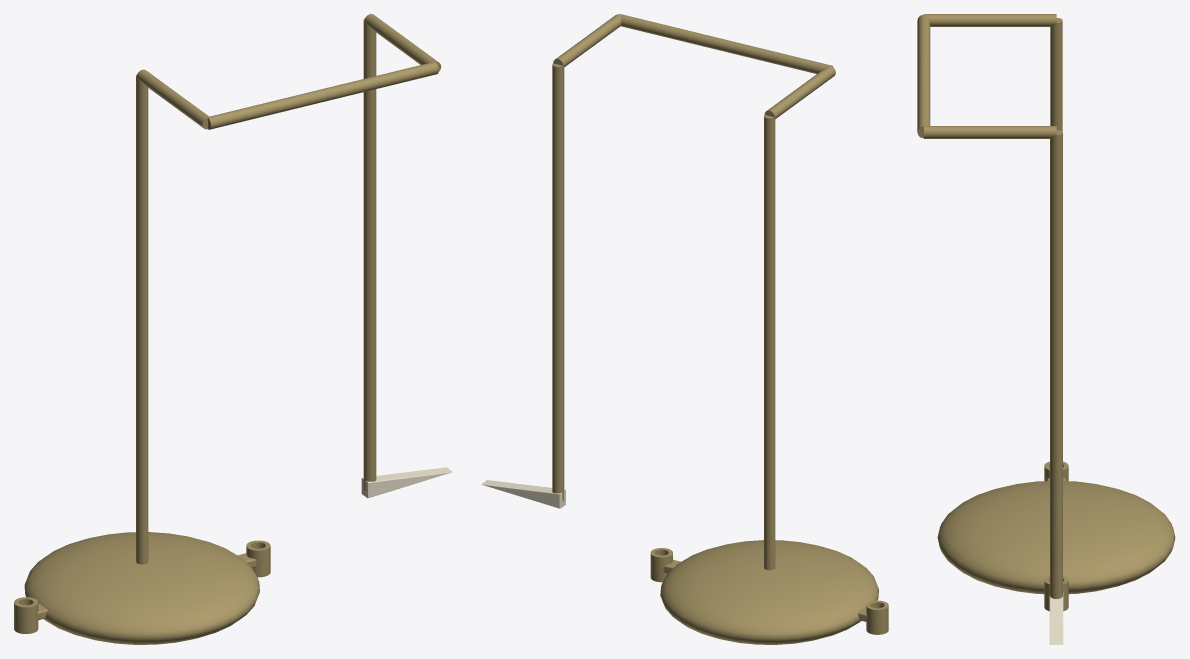
The model's file is water-clock-garden-and-hydraulic-puzzles-rising-float--0184e324__31926.glb.
3 views of the same model, side by side, from view 1: azimuth 30°, elevation 25°; view 2: azimuth 150°, elevation 25°; view 3: azimuth 270°, elevation 25° (orthographic). The views are drawn at different scales.
Visible parts, largest first — view 1: rising-float-carriage; view 2: rising-float-carriage; view 3: rising-float-carriage.
Part boxes in pixels (bbox=[...]): rising-float-carriage: bbox=[14, 14, 452, 644]; rising-float-carriage: bbox=[481, 14, 888, 644]; rising-float-carriage: bbox=[917, 14, 1175, 644].
Size of the model in its own units: 1.87 by 2.24 by 0.9539.
